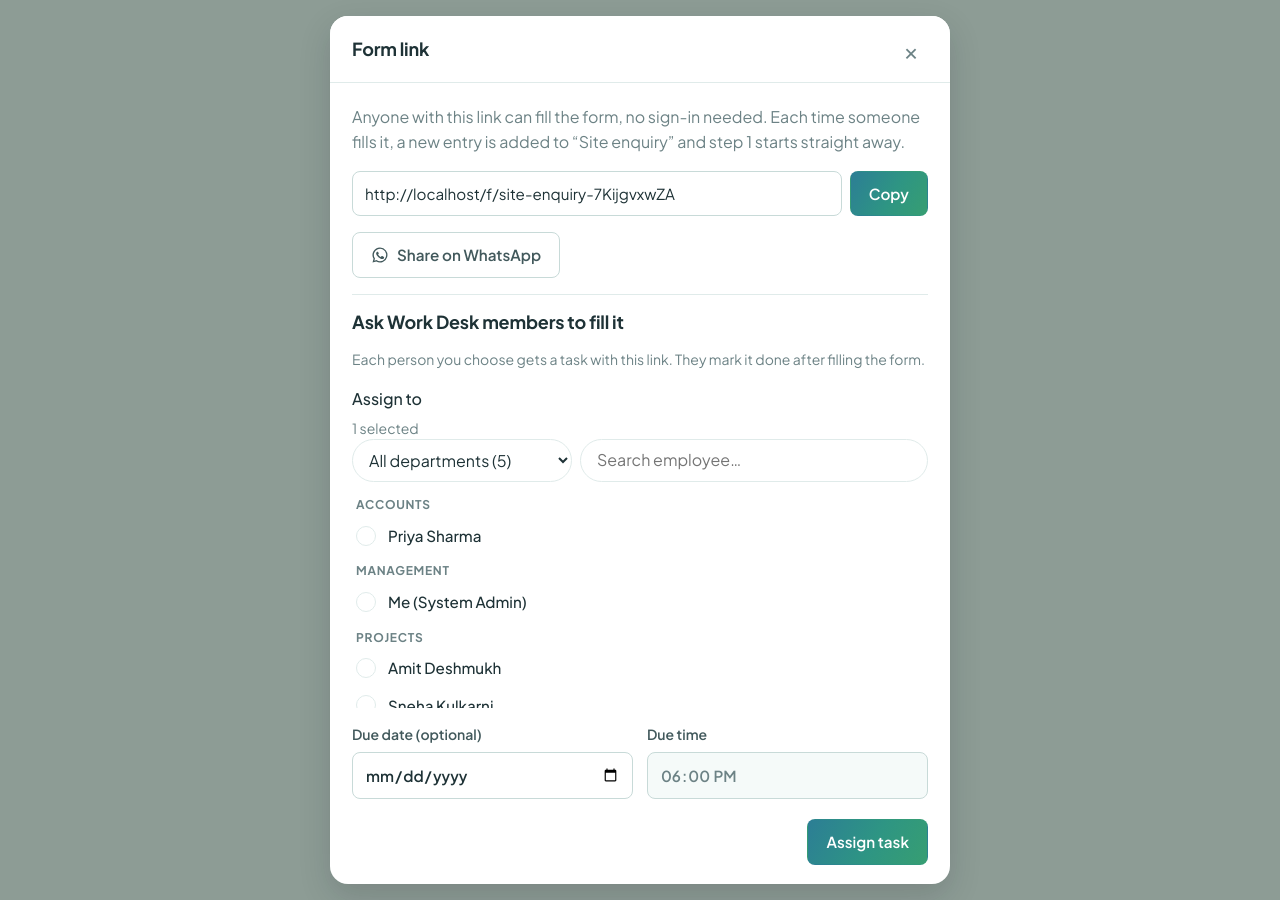
Form link dialog: share and assign › assigns to a single member too
Earlier steps of the test are not shown.
Step 1. Click the button "Assign task" → coordinates (868, 842), box top-left (808, 819), bottom-right (928, 865)
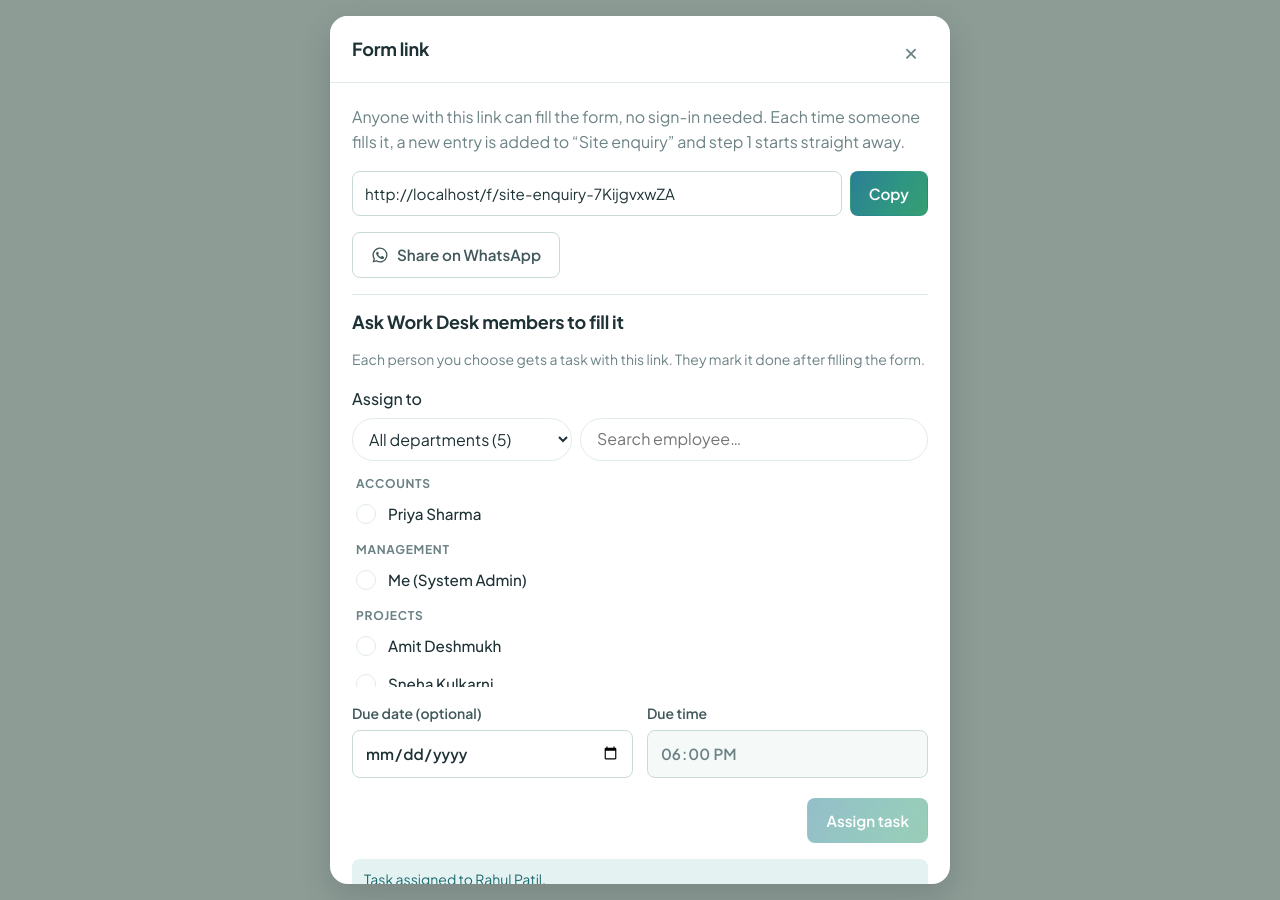
expect the message reads "Task assigned to Rahul Patil.": met, box top-left (364, 870), bottom-right (546, 884)
